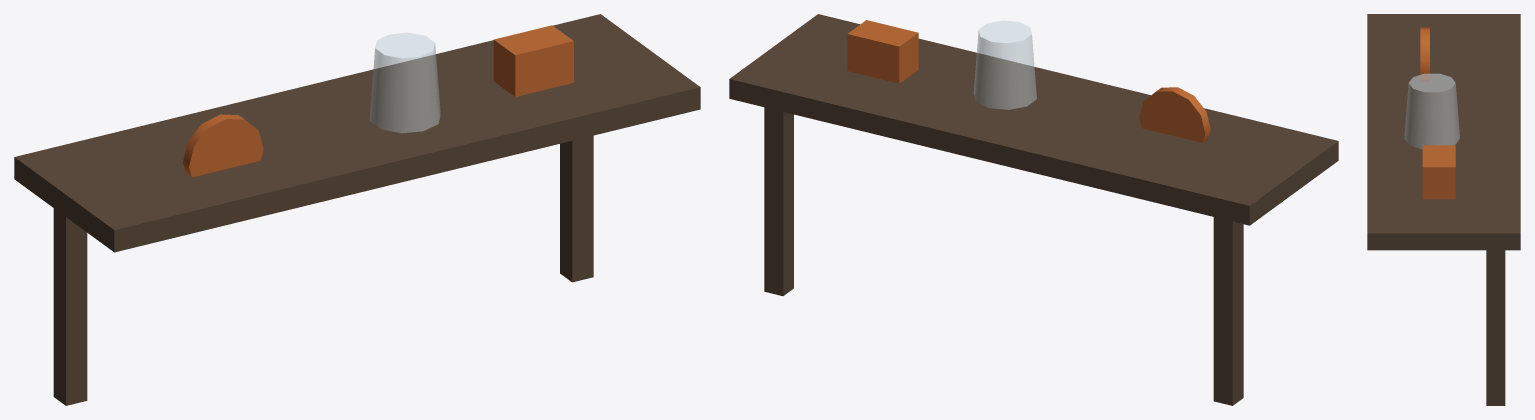
Rendered from lab_bench.glb.
3 views of the same model, side by side, from view 1: azimuth 30°, elevation 25°; view 2: azimuth 150°, elevation 25°; view 3: azimuth 270°, elevation 25° (orthographic). The views are drawn at different scales.
Parts seen in each view (by area): view 1: bench_top, bench_leg_l, bench_jar, bench_leg_r, bench_switch, bench_gauge; view 2: bench_top, bench_leg_l, bench_leg_r, bench_jar, bench_switch, bench_gauge; view 3: bench_top, bench_jar, bench_leg_r, bench_switch, bench_gauge.
Boxes of the visible parts, left/top/right/bottom form: bench_top: left=14, top=14, right=700, bottom=252; bench_leg_l: left=53, top=208, right=87, bottom=405; bench_jar: left=369, top=32, right=440, bottom=133; bench_leg_r: left=560, top=135, right=593, bottom=282; bench_switch: left=493, top=25, right=573, bottom=96; bench_gauge: left=183, top=114, right=263, bottom=177; bench_top: left=729, top=14, right=1338, bottom=225; bench_leg_l: left=1213, top=217, right=1243, bottom=405; bench_leg_r: left=764, top=107, right=793, bottom=295; bench_jar: left=973, top=20, right=1036, bottom=109; bench_switch: left=847, top=20, right=918, bottom=83; bench_gauge: left=1139, top=87, right=1210, bottom=142; bench_top: left=1367, top=14, right=1520, bottom=250; bench_jar: left=1404, top=73, right=1459, bottom=148; bench_leg_r: left=1486, top=250, right=1505, bottom=405; bench_switch: left=1422, top=145, right=1455, bottom=199; bench_gauge: left=1420, top=27, right=1429, bottom=81.
Bounding box in the file's own units: 2.2 × 1.12 × 0.65.
